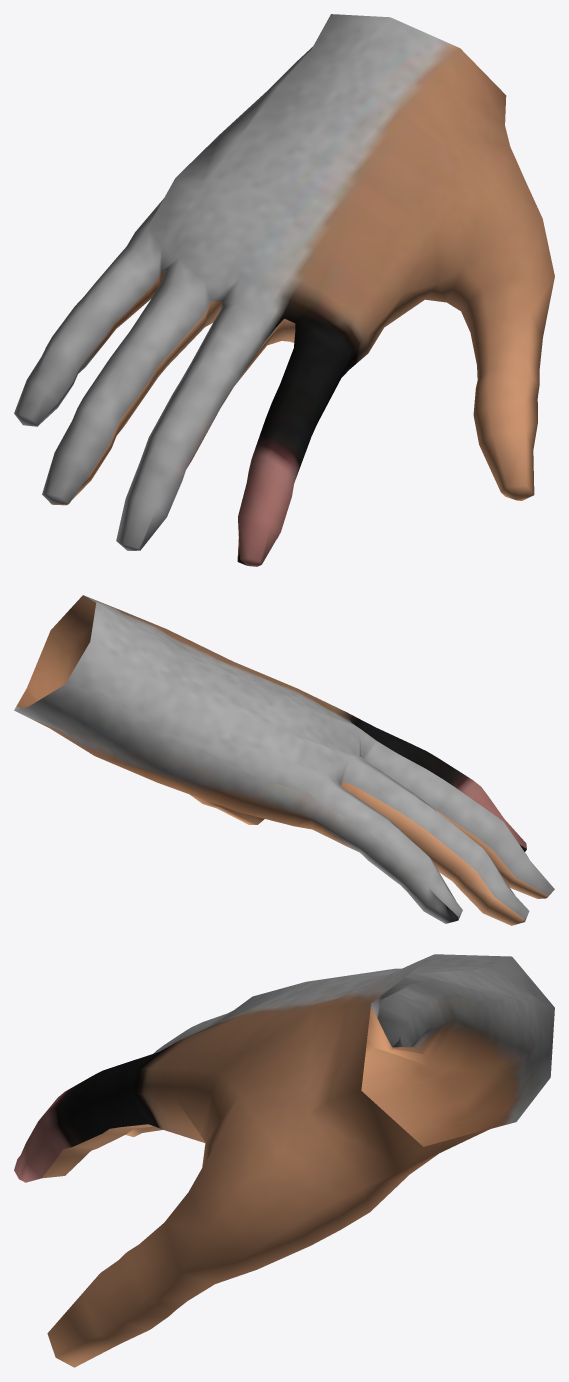
File: Lhand.obj
The picture shows the model from 3 angles, top to bottom: view 1: azimuth 30°, elevation 25°; view 2: azimuth 150°, elevation 25°; view 3: azimuth 270°, elevation 25°; orthographic projection. The views are drawn at different scales.
Parts seen in each view (by area): view 1: polySurface60 polySurface56 polySurface53 polySurface51 polySurf; view 2: polySurface60 polySurface56 polySurface53 polySurface51 polySurf; view 3: polySurface60 polySurface56 polySurface53 polySurface51 polySurf.
Part boxes in pixels (x1=…): polySurface60 polySurface56 polySurface53 polySurface51 polySurf: x1=14, y1=14, x2=554, y2=566; polySurface60 polySurface56 polySurface53 polySurface51 polySurf: x1=14, y1=595, x2=554, y2=925; polySurface60 polySurface56 polySurface53 polySurface51 polySurf: x1=14, y1=954, x2=554, y2=1367.
Size of the model in its own units: 3.16 by 2.17 by 2.5.
Materials: 1 (1 with a texture image).
